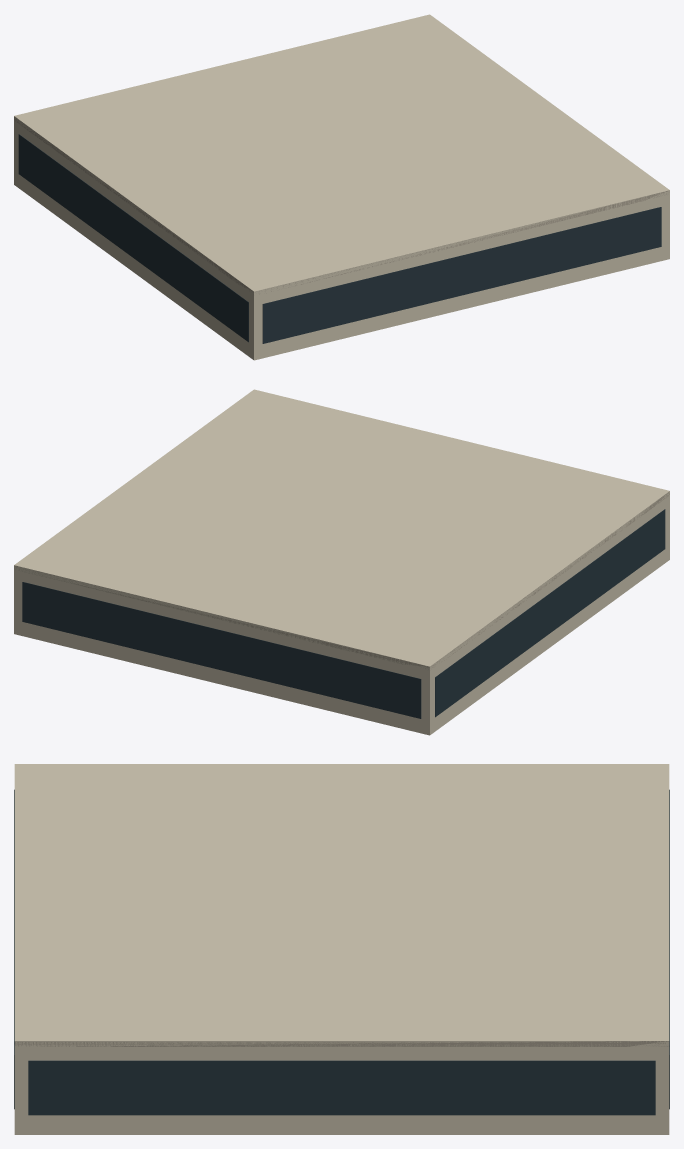
File: tw_deco_24_floor_lod1.glb
3 renders of one model, top to bottom at view 1: azimuth 30°, elevation 25°; view 2: azimuth 150°, elevation 25°; view 3: azimuth 270°, elevation 25°, orthographic. The views are drawn at different scales.
Parts seen in each view (by area): view 1: tw_deco_24_floor_lod1; view 2: tw_deco_24_floor_lod1; view 3: tw_deco_24_floor_lod1.
Part boxes in pixels (x1=…): tw_deco_24_floor_lod1: x1=14, y1=14, x2=669, y2=360; tw_deco_24_floor_lod1: x1=14, y1=389, x2=669, y2=735; tw_deco_24_floor_lod1: x1=14, y1=764, x2=669, y2=1134.
Bounding box in the file's own units: 24.04 × 3.8 × 24.04.
1 material, 1 textured.
